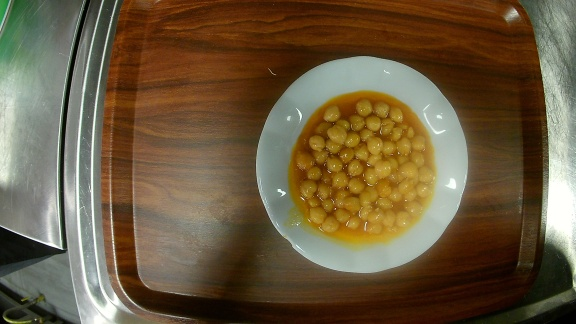sulunohut: (255, 55, 467, 274)
